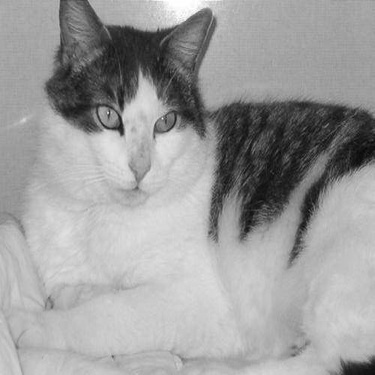cat: (1, 1, 369, 369)
